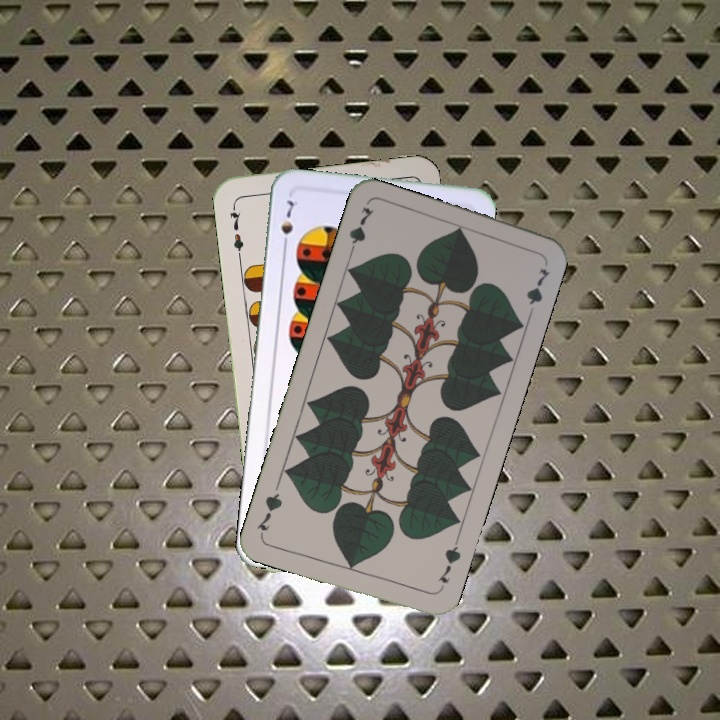E7: (225, 201, 247, 260)
G7: (344, 202, 377, 260), (434, 536, 464, 586)
S7: (277, 196, 300, 252)
